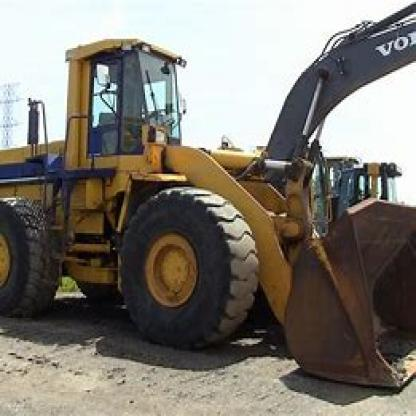bull_dozer/loader/grader: (1, 28, 414, 392)
